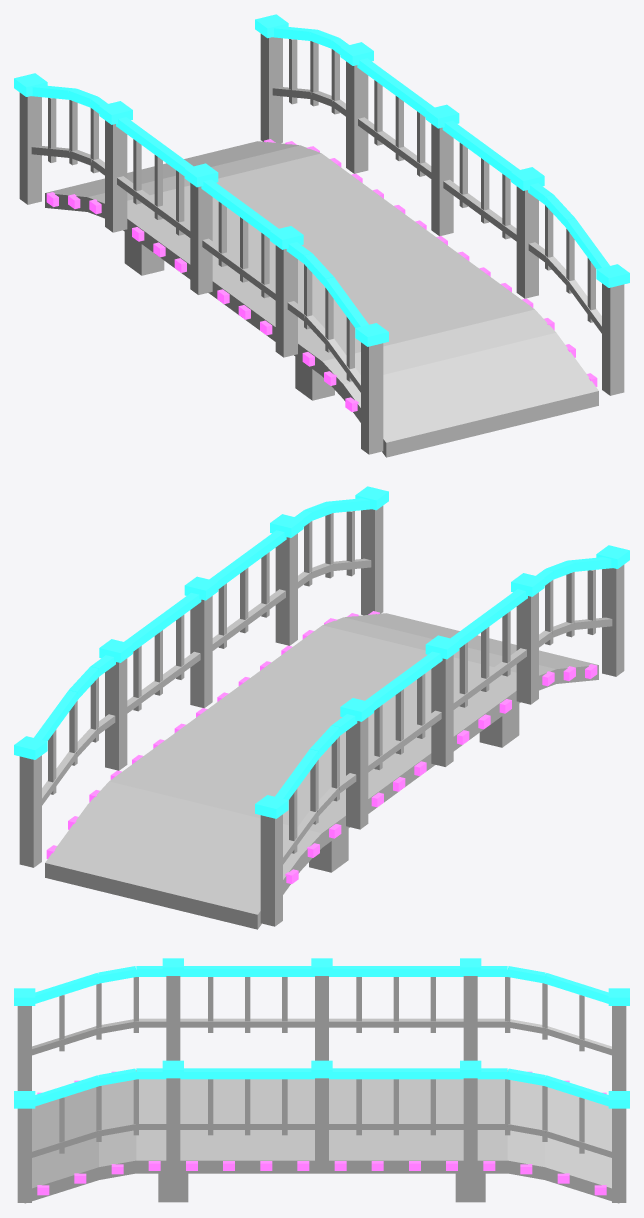
The picture shows the model from 3 angles, top to bottom: view 1: azimuth 30°, elevation 25°; view 2: azimuth 150°, elevation 25°; view 3: azimuth 270°, elevation 25°; orthographic projection. The views are drawn at different scales.
Parts seen in each view (by area): view 1: Neon_Footbridge_Showcase; view 2: Neon_Footbridge_Showcase; view 3: Neon_Footbridge_Showcase.
Boxes of the visible parts, <box> form: Neon_Footbridge_Showcase: <box>14,14,629,457</box>; Neon_Footbridge_Showcase: <box>14,486,629,929</box>; Neon_Footbridge_Showcase: <box>14,958,629,1203</box>.
Bounding box in the file's own units: 2.22 × 1.34 × 5.18.
